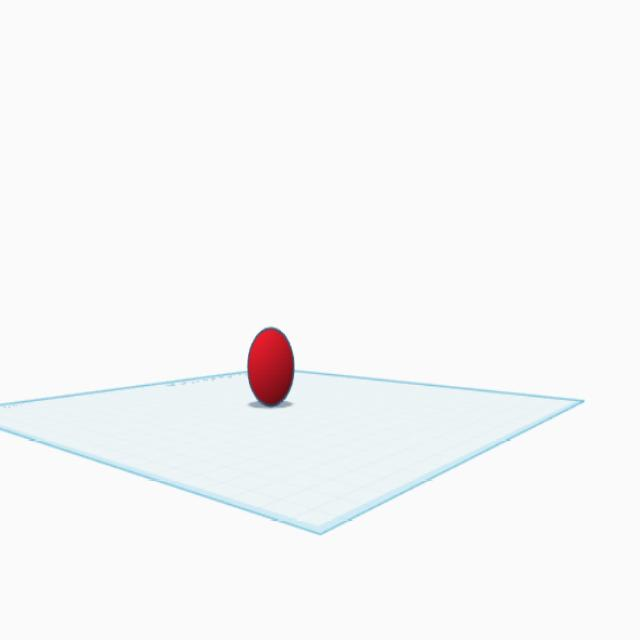sphere: (246, 324, 296, 411)
